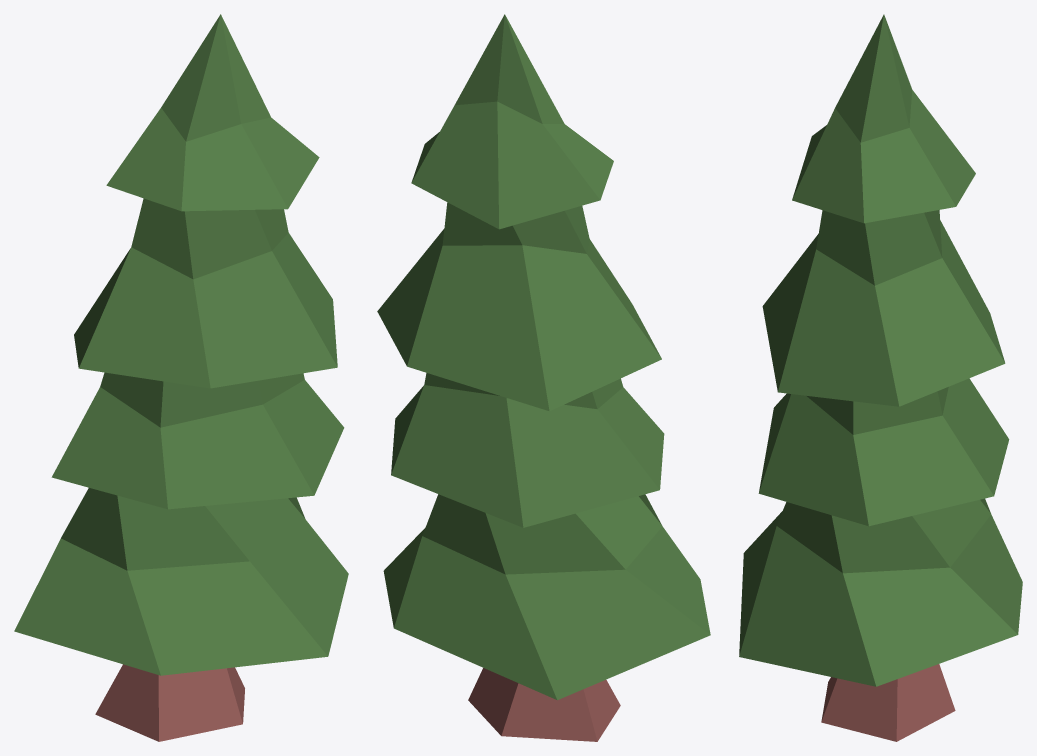
The model's file is arbol pino 9.fbx.
The picture shows the model from 3 angles, left to right: view 1: azimuth 30°, elevation 25°; view 2: azimuth 150°, elevation 25°; view 3: azimuth 270°, elevation 25°; orthographic projection. The views are drawn at different scales.
Visible parts, largest first — view 1: SpruceTree3; view 2: SpruceTree3; view 3: SpruceTree3.
Part boxes in pixels (left/top/right/bottom): SpruceTree3: left=14, top=14, right=348, bottom=741; SpruceTree3: left=377, top=14, right=710, bottom=741; SpruceTree3: left=739, top=14, right=1022, bottom=741.
Bounding box in the file's own units: 13740 × 27304 × 9848.
